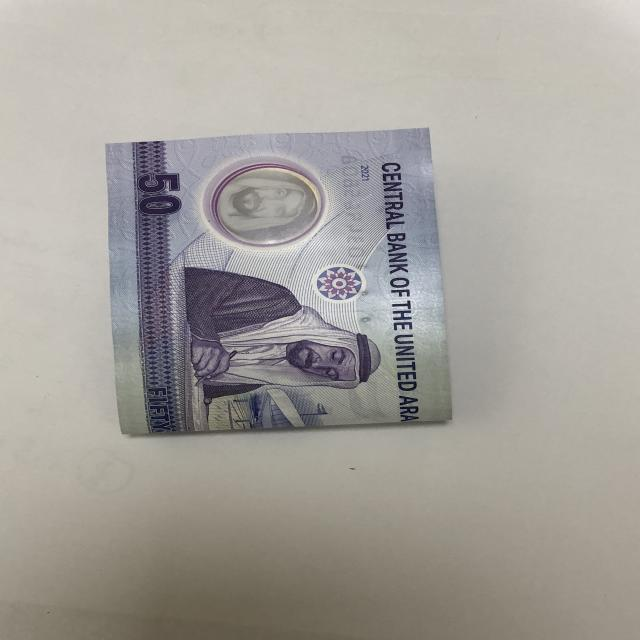50_AED: (99, 120, 463, 444)
